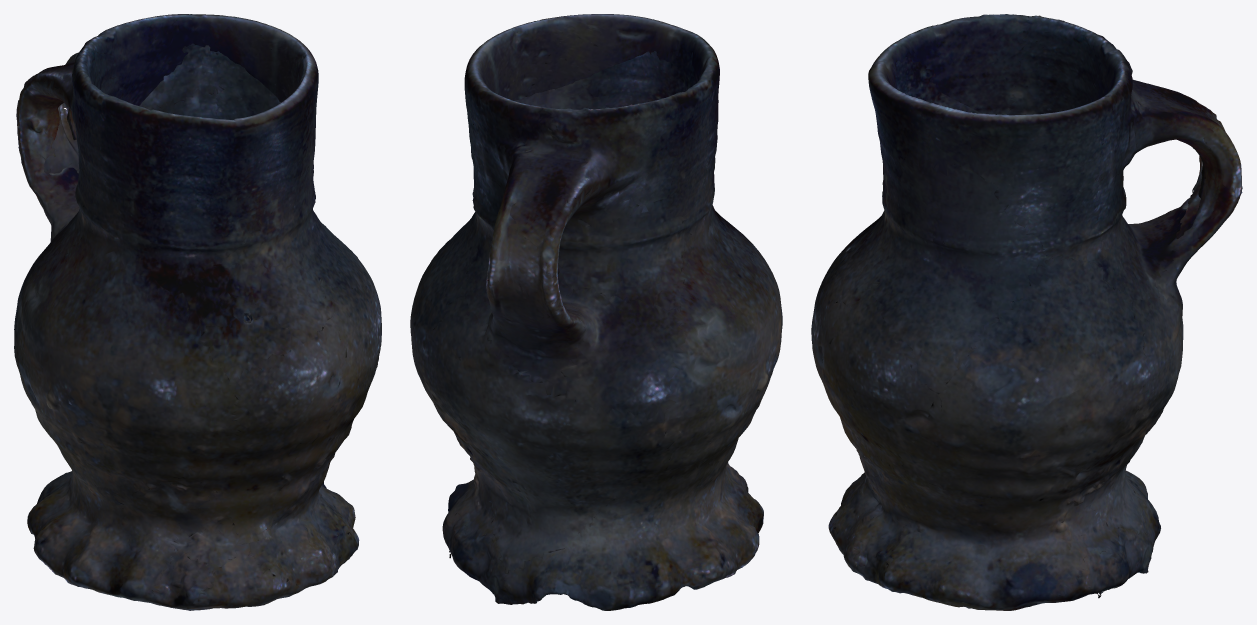
Rendered from jug_1.glb.
3 renders of one model, left to right at view 1: azimuth 30°, elevation 25°; view 2: azimuth 150°, elevation 25°; view 3: azimuth 270°, elevation 25°, orthographic.
Visible parts, largest first — view 1: Scan; view 2: Scan; view 3: Scan.
Part boxes in pixels (x1,y1,x2,y2): Scan: [14, 14, 381, 610]; Scan: [410, 14, 782, 610]; Scan: [811, 14, 1242, 610].
Size of the model in its own units: 95.9 by 142 by 112.
Materials: 1 (1 with a texture image).
